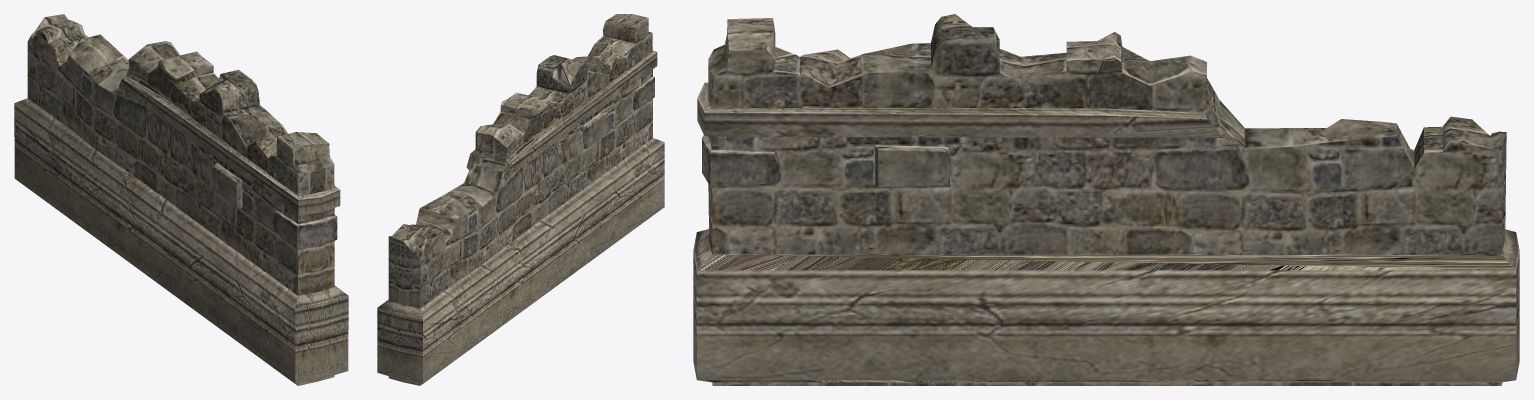
The model's file is SM_Plains_CastleWall_Ruin_01.FBX.
The picture shows the model from 3 angles, left to right: view 1: azimuth 30°, elevation 25°; view 2: azimuth 150°, elevation 25°; view 3: azimuth 270°, elevation 25°; orthographic projection. The views are drawn at different scales.
Visible parts, largest first — view 1: SM_Plains_CastleWall_Ruin_01a, SM_Plains_CastleWall_Ruin_01b; view 2: SM_Plains_CastleWall_Ruin_01a, SM_Plains_CastleWall_Ruin_01b; view 3: SM_Plains_CastleWall_Ruin_01a, SM_Plains_CastleWall_Ruin_01b.
Boxes of the visible parts, x1,y1,x2,y2 form: SM_Plains_CastleWall_Ruin_01a: (27,14,337,385); SM_Plains_CastleWall_Ruin_01b: (14,76,348,383); SM_Plains_CastleWall_Ruin_01a: (388,14,654,385); SM_Plains_CastleWall_Ruin_01b: (377,50,664,383); SM_Plains_CastleWall_Ruin_01a: (702,14,1506,385); SM_Plains_CastleWall_Ruin_01b: (693,82,1519,382).
Bounding box in the file's own units: 22.69 × 96.34 × 209.
